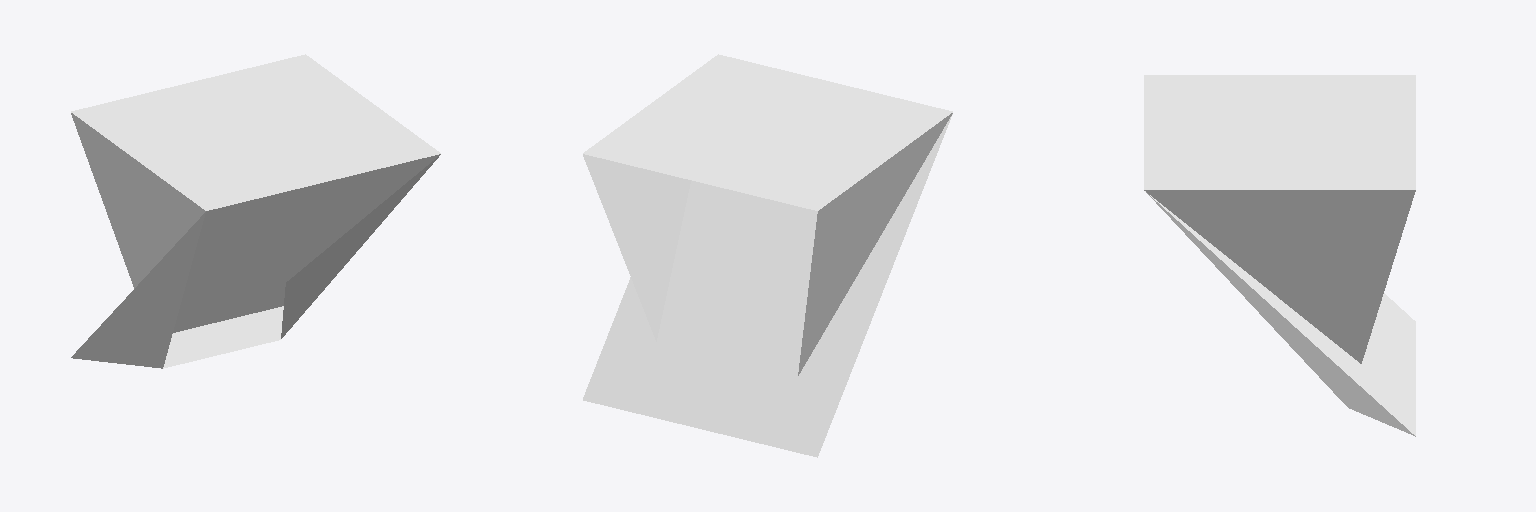
Rendered from flower.obj.
3 renders of one model, left to right at view 1: azimuth 30°, elevation 25°; view 2: azimuth 150°, elevation 25°; view 3: azimuth 270°, elevation 25°, orthographic.
Bounding box in the file's own units: 4 × 4 × 4.